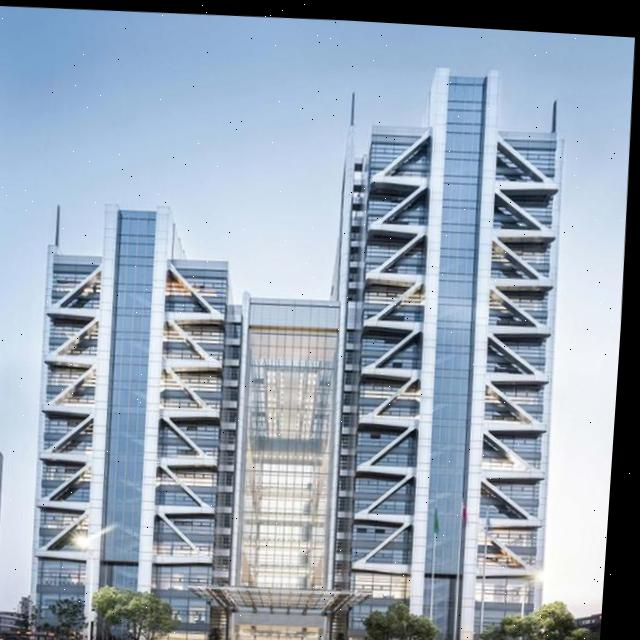building: (229, 53, 575, 640), (18, 190, 258, 640)
